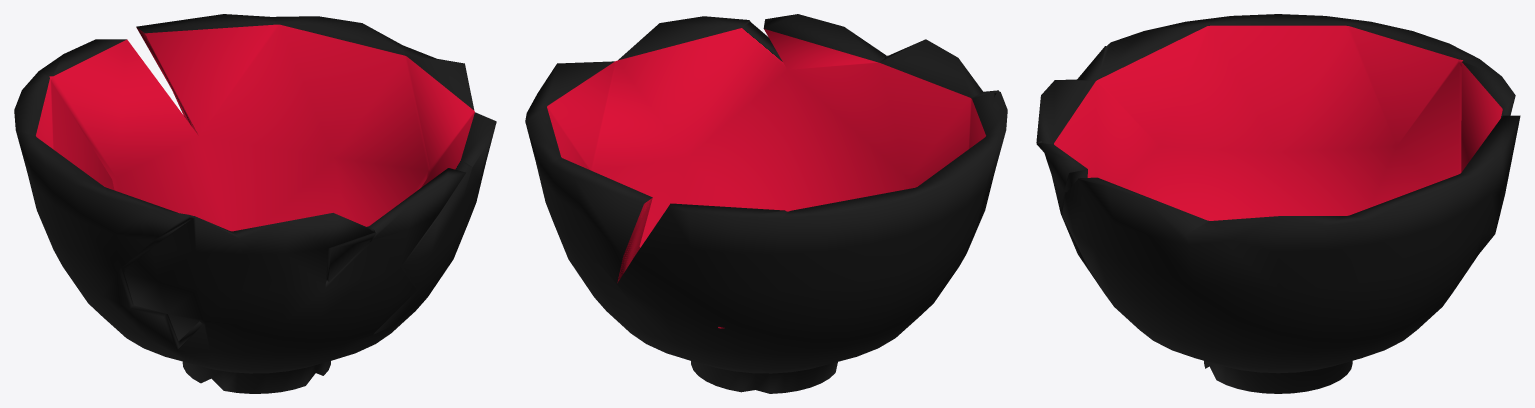
File: brokenBowl.obj
The picture shows the model from 3 angles, left to right: view 1: azimuth 30°, elevation 25°; view 2: azimuth 150°, elevation 25°; view 3: azimuth 270°, elevation 25°; orthographic projection.
Visible parts, largest first — view 1: 立方体.002; view 2: 立方体.002; view 3: 立方体.002.
Part boxes in pixels (x1,y1,x2,y2): 立方体.002: [14, 14, 496, 393]; 立方体.002: [525, 14, 1007, 393]; 立方体.002: [1036, 14, 1520, 393].
Bounding box in the file's own units: 2 × 1.14 × 2.
1 material, 1 textured.
